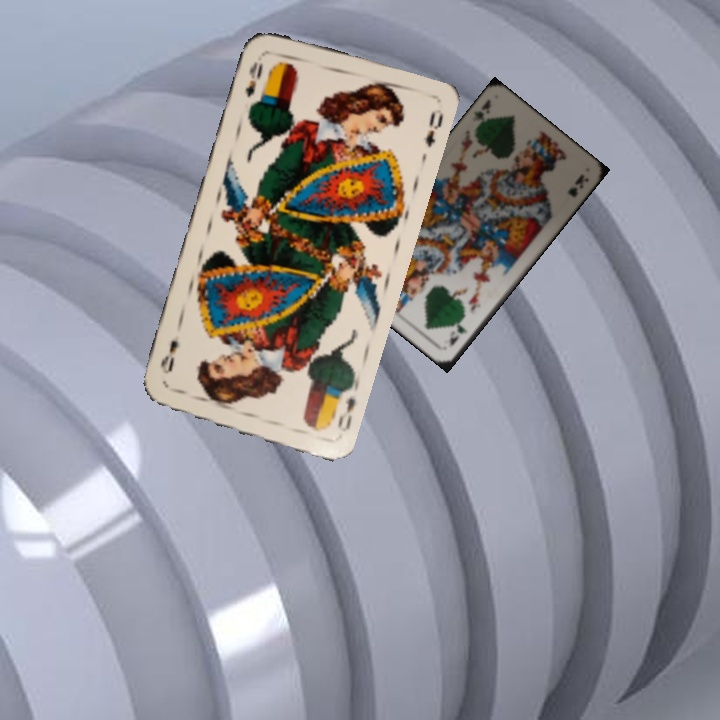EO: (327, 381, 361, 434), (241, 57, 266, 100)
GK: (468, 96, 494, 133), (444, 320, 470, 350)
